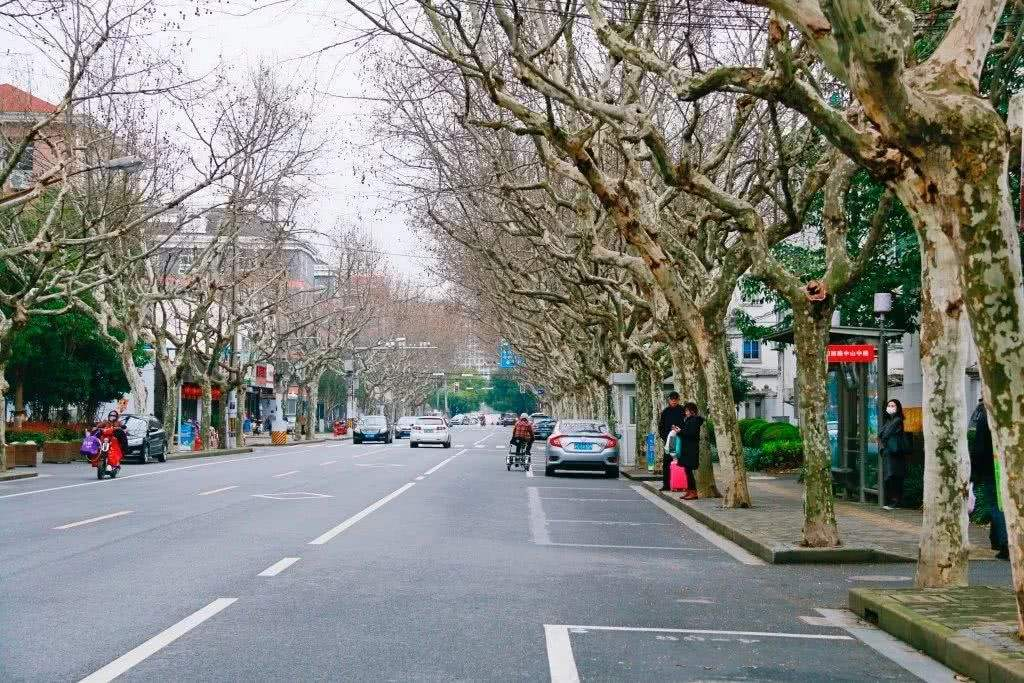slot_nocar: (529, 602, 972, 681), (519, 508, 740, 560), (521, 491, 712, 528), (513, 475, 674, 510)
